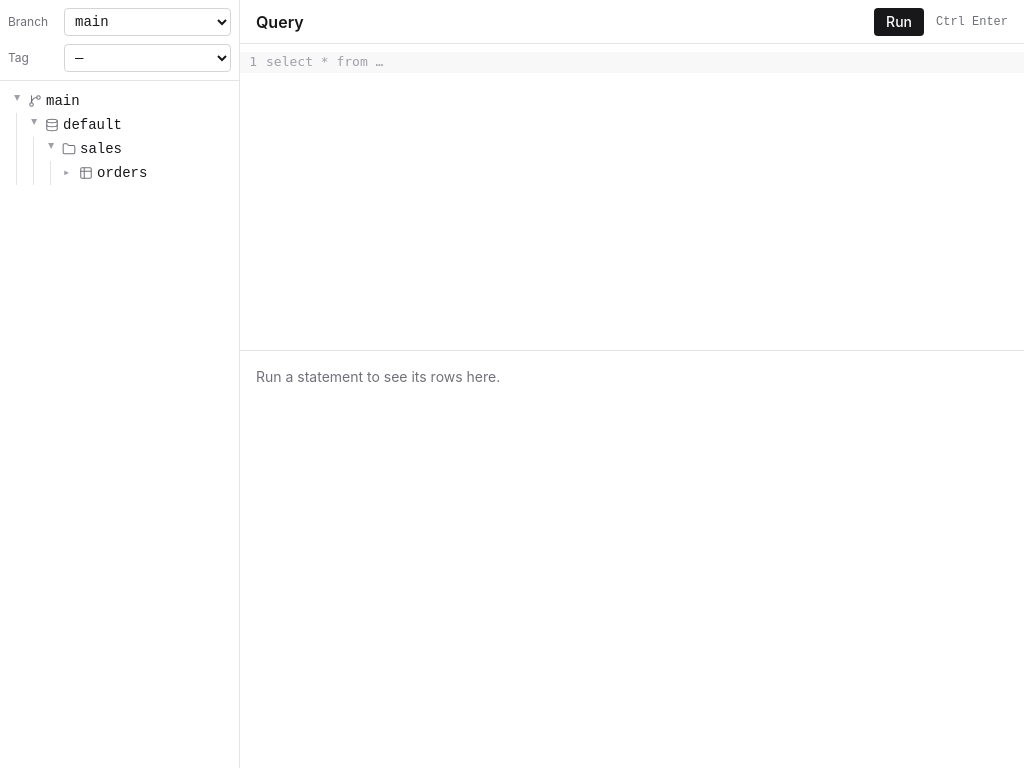
Test: QueryPage › lists the branches, not the tags, and the tables of the one picked
expect the list named "default.sales" shows "orders": met, box [97, 165, 147, 181]
Select "dev" in the dropdown labelled "Branch" at (148, 22), box [64, 8, 231, 36]
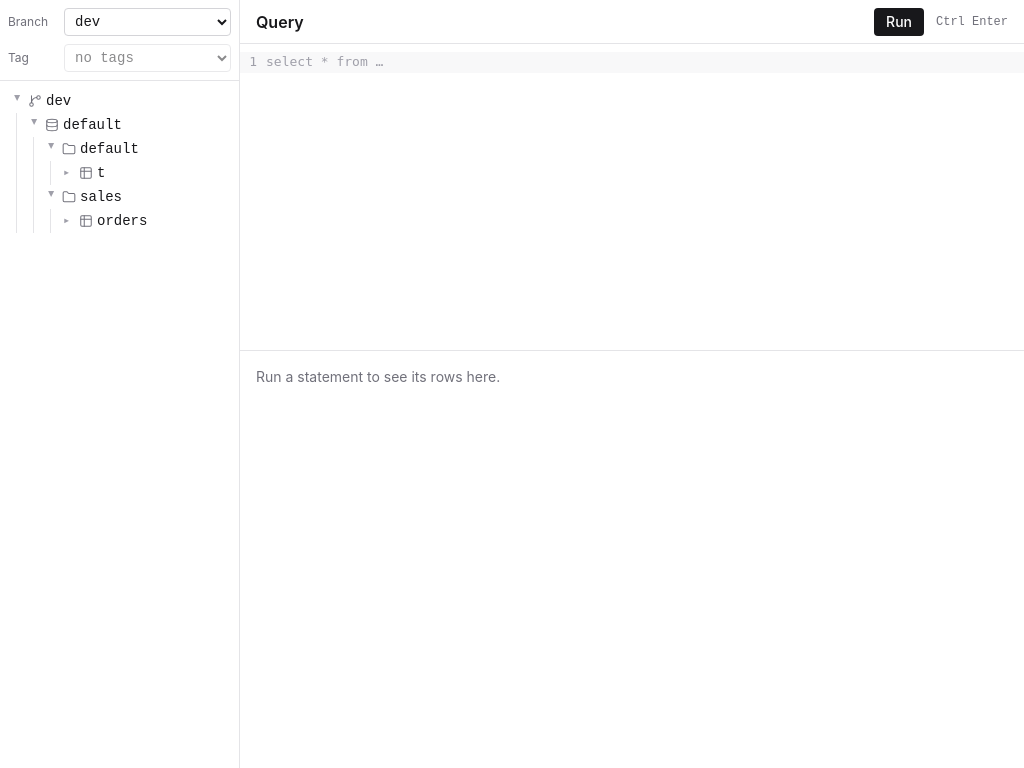
expect the list named "default.default" shows "t": met, box [97, 165, 105, 181]
expect the dropdown labelled "Tag" is disabled: met, box [64, 44, 231, 72]
